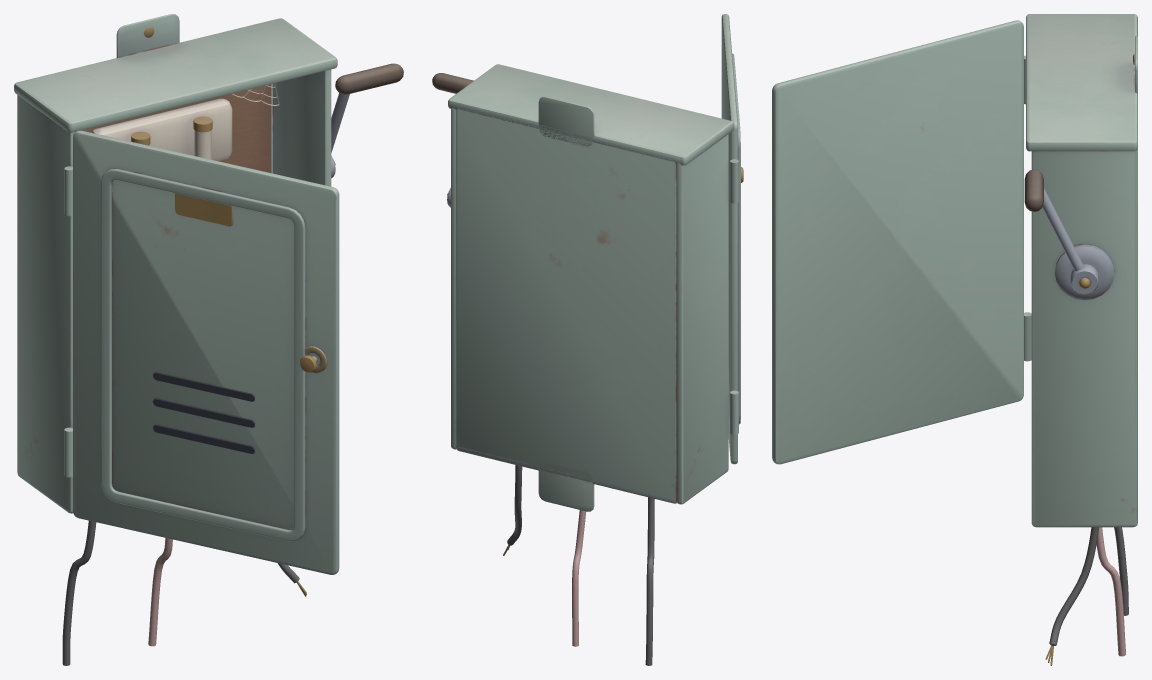
Rendered from fuse-box.glb.
3 renders of one model, left to right at view 1: azimuth 30°, elevation 25°; view 2: azimuth 150°, elevation 25°; view 3: azimuth 270°, elevation 25°, orthographic. The views are drawn at different scales.
Visible parts, largest first — view 1: fuse-box_door, fuse-box_body, fuse-box_lever; view 2: fuse-box_body, fuse-box_door, fuse-box_lever; view 3: fuse-box_door, fuse-box_body, fuse-box_lever.
Boxes of the visible parts, x1,y1,x2,y2 form: fuse-box_door: (73, 130, 339, 574); fuse-box_body: (14, 14, 337, 665); fuse-box_lever: (331, 63, 403, 178); fuse-box_body: (448, 64, 738, 665); fuse-box_door: (721, 14, 743, 464); fuse-box_lever: (432, 73, 473, 207); fuse-box_door: (772, 20, 1023, 464); fuse-box_body: (1024, 14, 1137, 665); fuse-box_lever: (1024, 169, 1098, 294).
Size of the model in its own units: 0.5465 by 0.9497 by 0.5163.
5 materials, 3 textured.
